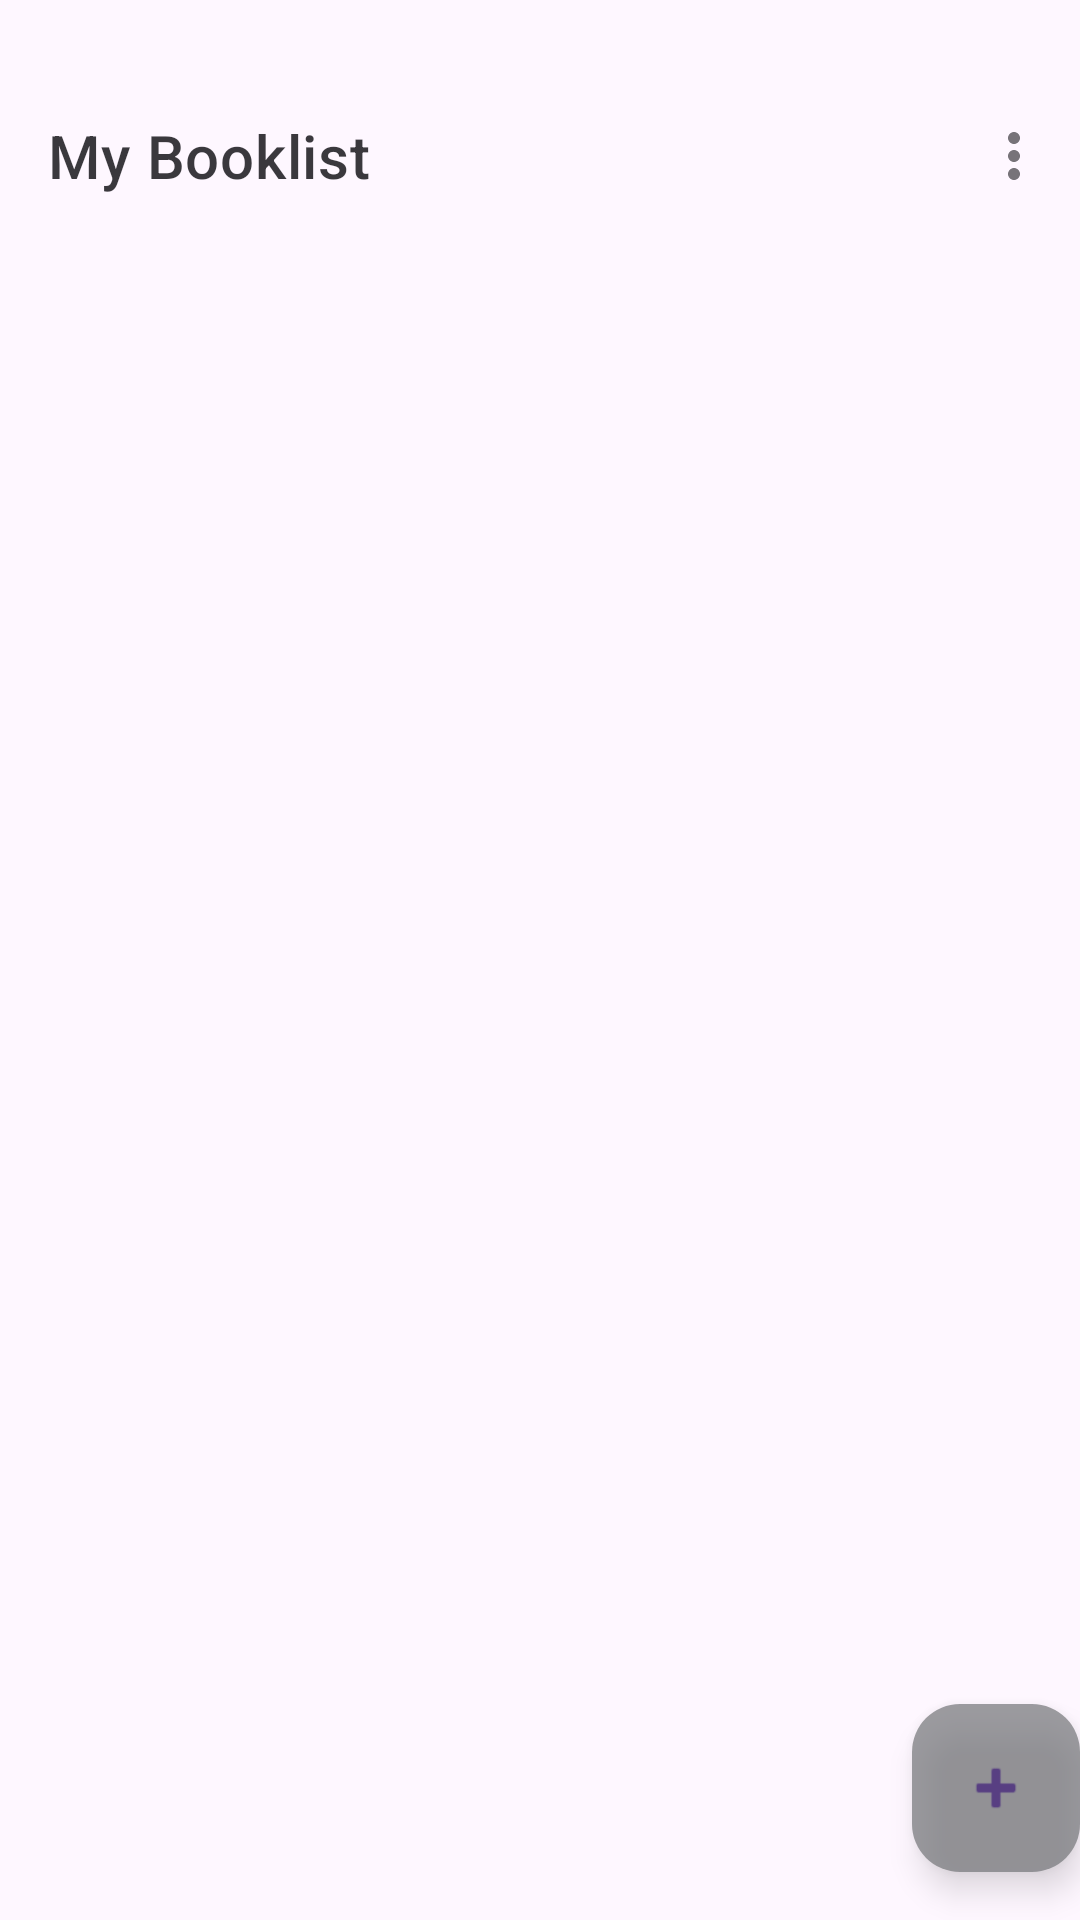

Where icons sit on this 1080 x 1920 app screen, as (x1, y1, x2, y2):
Add new book: (912, 1704, 1080, 1872)
